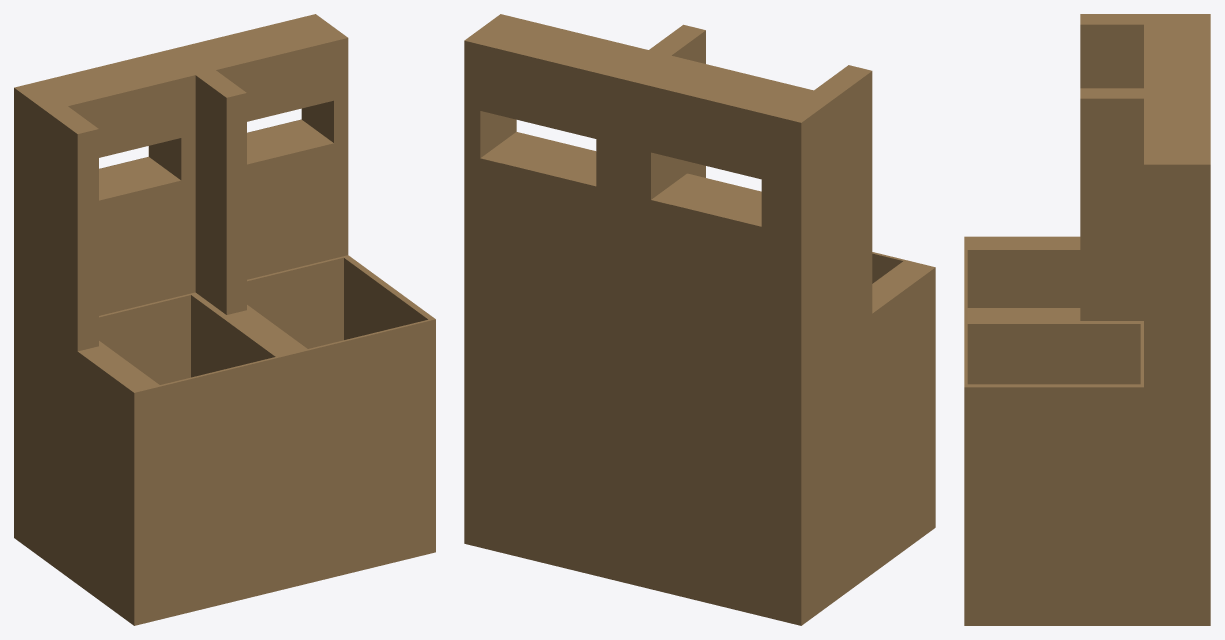
The model's file is item-pariwasta_takeAwayCardboard.fbx.
The picture shows the model from 3 angles, left to right: view 1: azimuth 30°, elevation 25°; view 2: azimuth 150°, elevation 25°; view 3: azimuth 270°, elevation 25°; orthographic projection. The views are drawn at different scales.
Visible parts, largest first — view 1: take away cardboard; view 2: take away cardboard; view 3: take away cardboard.
Part boxes in pixels (box(x1,y1,x2,y2)): take away cardboard: box(14, 14, 435, 625); take away cardboard: box(464, 14, 935, 625); take away cardboard: box(964, 14, 1210, 625).
Size of the model in its own units: 55.84 by 79.64 by 38.54.
